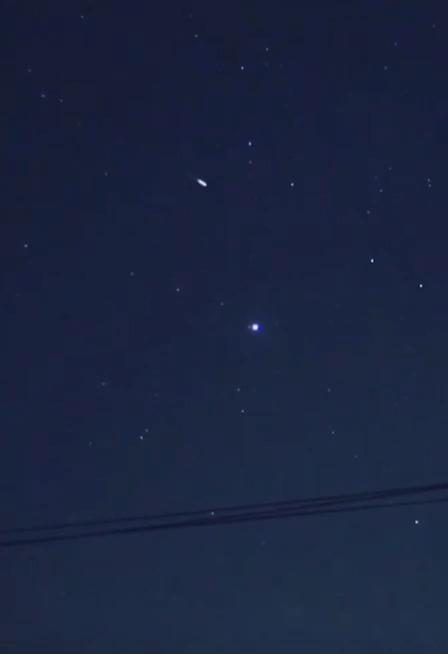meteorite: (184, 168, 217, 193)
